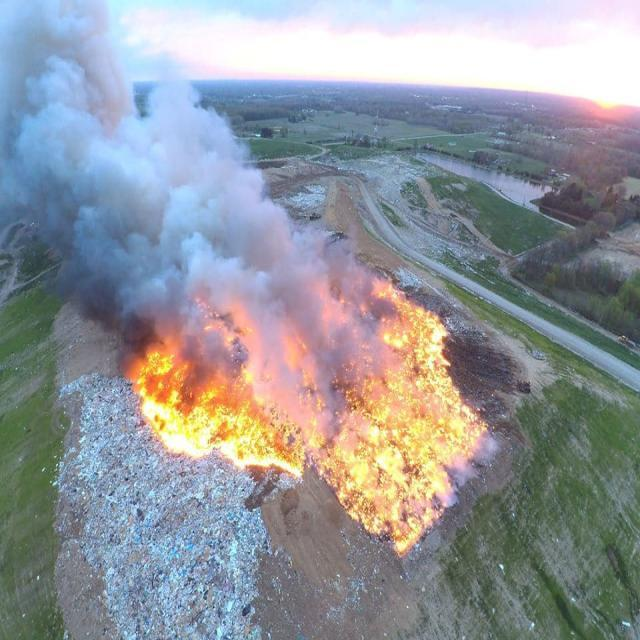Fire: (130, 288, 500, 514)
Smoke: (0, 4, 393, 392)
